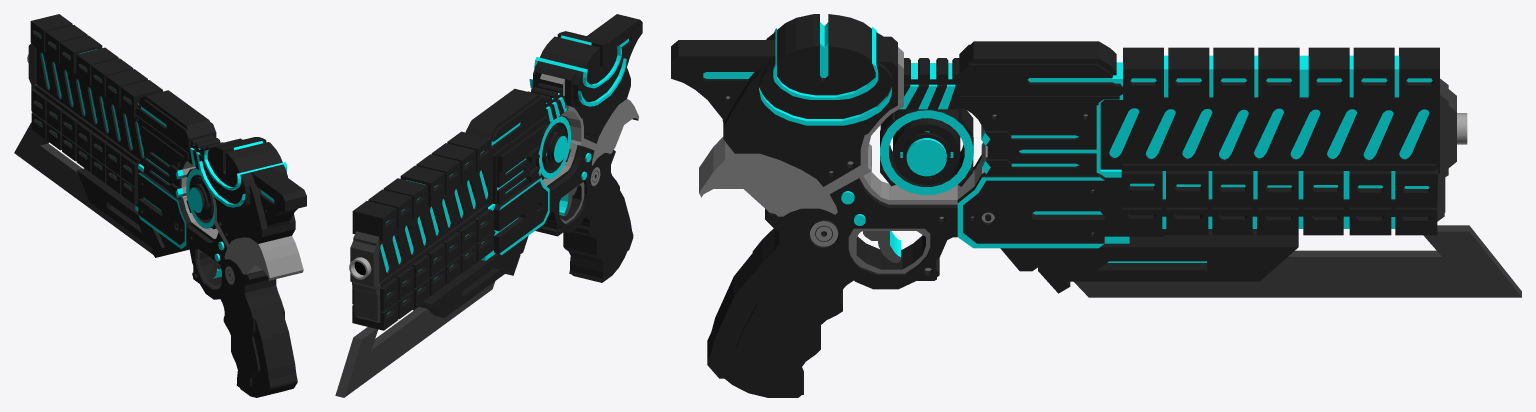
The model's file is pistola2.fbx.
3 renders of one model, left to right at view 1: azimuth 30°, elevation 25°; view 2: azimuth 150°, elevation 25°; view 3: azimuth 270°, elevation 25°, orthographic. The views are drawn at different scales.
Parts seen in each view (by area): view 1: Component_1_1; view 2: Component_1_1; view 3: Component_1_1.
Part boxes in pixels (<box>): Component_1_1: <box>14,14,306,397</box>; Component_1_1: <box>335,14,642,397</box>; Component_1_1: <box>671,14,1521,397</box>.
Size of the model in its own units: 1.16 by 5.28 by 11.38.
